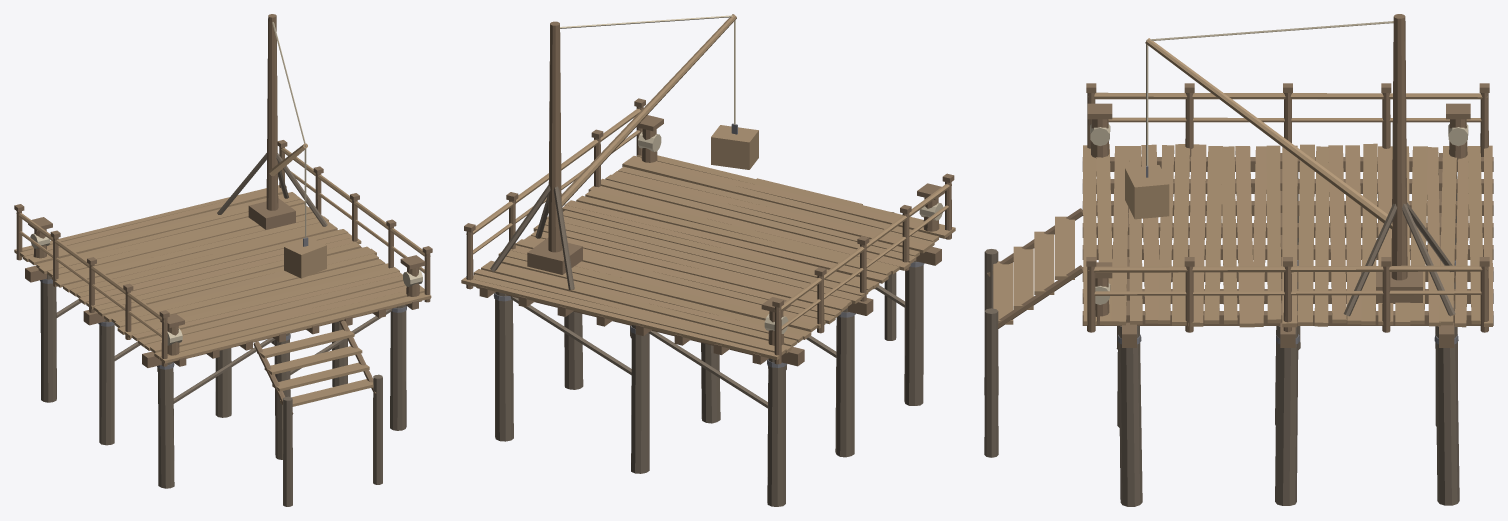
Rendered from D03_栈桥端头平台.fbx.
3 renders of one model, left to right at view 1: azimuth 30°, elevation 25°; view 2: azimuth 150°, elevation 25°; view 3: azimuth 270°, elevation 25°, orthographic. The views are drawn at different scales.
Visible parts, largest first — view 1: D03_桥板, D03_木桩, D03_下水木阶, D03_栏杆柱, D03_扶手, D03_木阶桩, D03_吊杆_桅, D03_吊物木箱, D03_剪刀撑, D03_吊杆_底座, D03_吊杆_斜撑, D03_横梁 (+6 smaller); view 2: D03_桥板, D03_木桩, D03_栏杆柱, D03_扶手, D03_吊杆_桅, D03_吊杆_臂, D03_剪刀撑, D03_吊物木箱, D03_吊杆_斜撑, D03_横梁, D03_吊杆_底座, D03_纵梁 (+5 smaller); view 3: D03_桥板, D03_木桩, D03_扶手, D03_栏杆柱, D03_纵梁, D03_下水木阶, D03_吊杆_桅, D03_木阶桩, D03_吊杆_臂, D03_吊物木箱, D03_吊杆_斜撑, D03_横梁 (+6 smaller).
Part boxes in pixels (<box>): D03_桥板: <box>14,185,431,363</box>; D03_木桩: <box>40,274,406,488</box>; D03_下水木阶: <box>257,329,373,406</box>; D03_栏杆柱: <box>14,140,432,366</box>; D03_扶手: <box>16,148,430,337</box>; D03_木阶桩: <box>283,374,382,506</box>; D03_吊杆_桅: <box>266,14,278,210</box>; D03_吊物木箱: <box>284,237,326,278</box>; D03_剪刀撑: <box>56,299,392,403</box>; D03_吊杆_底座: <box>248,198,295,229</box>; D03_吊杆_斜撑: <box>217,153,327,226</box>; D03_横梁: <box>25,247,421,367</box>; D03_桥板: <box>461,155,955,360</box>; D03_木桩: <box>495,260,923,506</box>; D03_栏杆柱: <box>464,98,954,364</box>; D03_扶手: <box>466,108,951,330</box>; D03_吊杆_桅: <box>548,21,561,252</box>; D03_吊杆_臂: <box>561,14,736,206</box>; D03_剪刀撑: <box>511,285,904,408</box>; D03_吊物木箱: <box>711,125,758,169</box>; D03_吊杆_斜撑: <box>490,184,574,289</box>; D03_横梁: <box>476,246,941,366</box>; D03_吊杆_底座: <box>527,238,582,274</box>; D03_纵梁: <box>479,276,859,364</box>; D03_桥板: <box>1083,143,1492,327</box>; D03_木桩: <box>1116,172,1459,506</box>; D03_扶手: <box>1088,92,1487,295</box>; D03_栏杆柱: <box>1086,83,1489,332</box>; D03_纵梁: <box>1082,157,1493,325</box>; D03_下水木阶: <box>993,216,1074,324</box>; D03_吊杆_桅: <box>1391,14,1407,280</box>; D03_木阶桩: <box>984,249,998,457</box>; D03_吊杆_臂: <box>1145,38,1392,229</box>; D03_吊物木箱: <box>1125,165,1169,219</box>; D03_吊杆_斜撑: <box>1343,202,1455,316</box>; D03_横梁: <box>1122,153,1454,347</box>.
Bounding box in the file's own units: 730 × 880 × 867.
